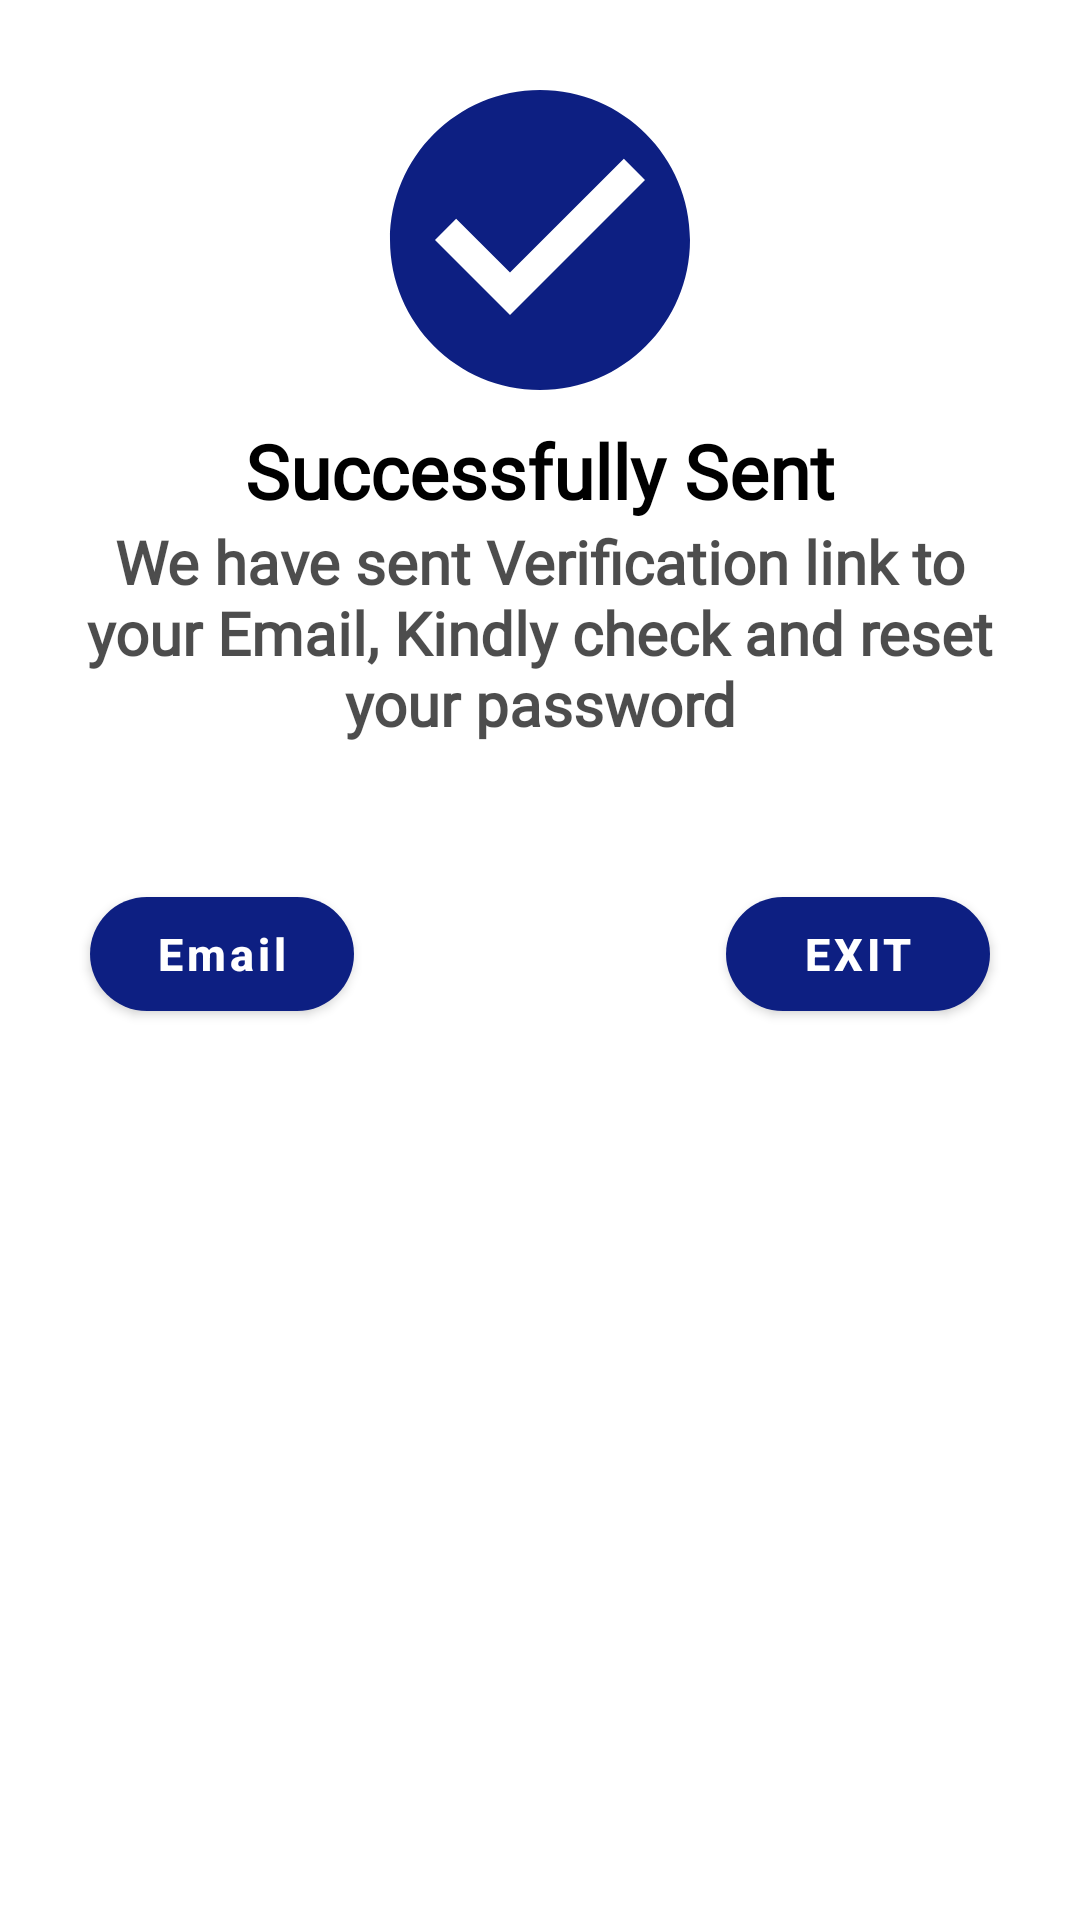

Screen size 1080w x 1920h. Icon name, then its center in pixels as (x=x, y=y):
okay: (x=540, y=240)
